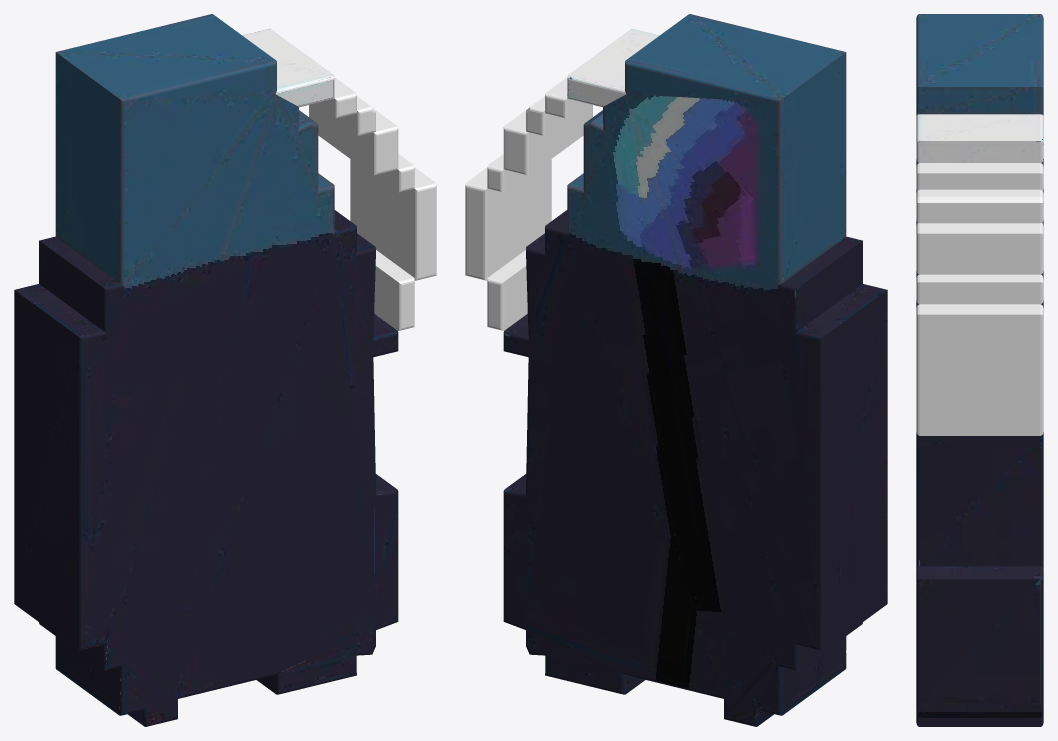
File: PlayerModel-transformed.glb
3 views of the same model, side by side, from view 1: azimuth 30°, elevation 25°; view 2: azimuth 150°, elevation 25°; view 3: azimuth 270°, elevation 25° (orthographic). The views are drawn at different scales.
Parts seen in each view (by area): view 1: Node, Node.003, Node.001; view 2: Node, Node.003, Node.001; view 3: Node, Node.001, Node.003.
Boxes of the visible parts, bbox=[...] form: Node: bbox=[14, 14, 398, 726]; Node.003: bbox=[350, 154, 436, 280]; Node.001: bbox=[309, 77, 414, 330]; Node: bbox=[503, 14, 887, 726]; Node.003: bbox=[465, 154, 551, 280]; Node.001: bbox=[487, 77, 592, 330]; Node: bbox=[916, 14, 1043, 726]; Node.001: bbox=[916, 163, 1043, 435]; Node.003: bbox=[916, 274, 1043, 402].
Size of the model in its own units: 4.55 by 7.7 by 1.47.
Materials: 3 (2 with a texture image).
